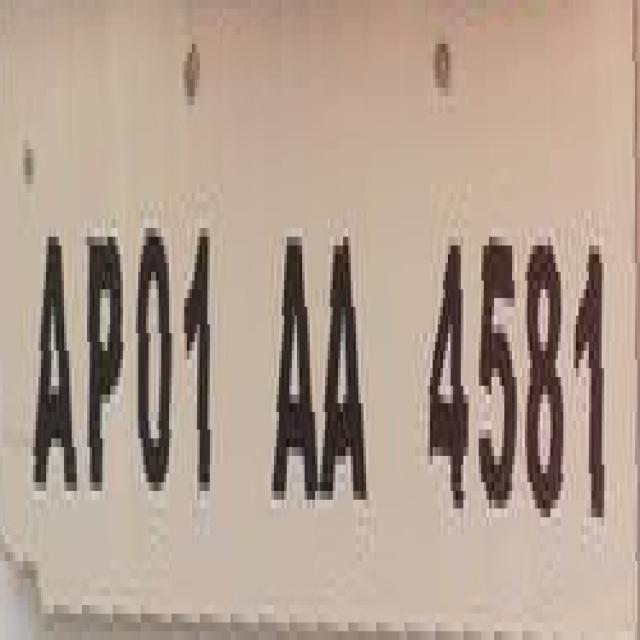license_plate: (5, 61, 640, 632)
